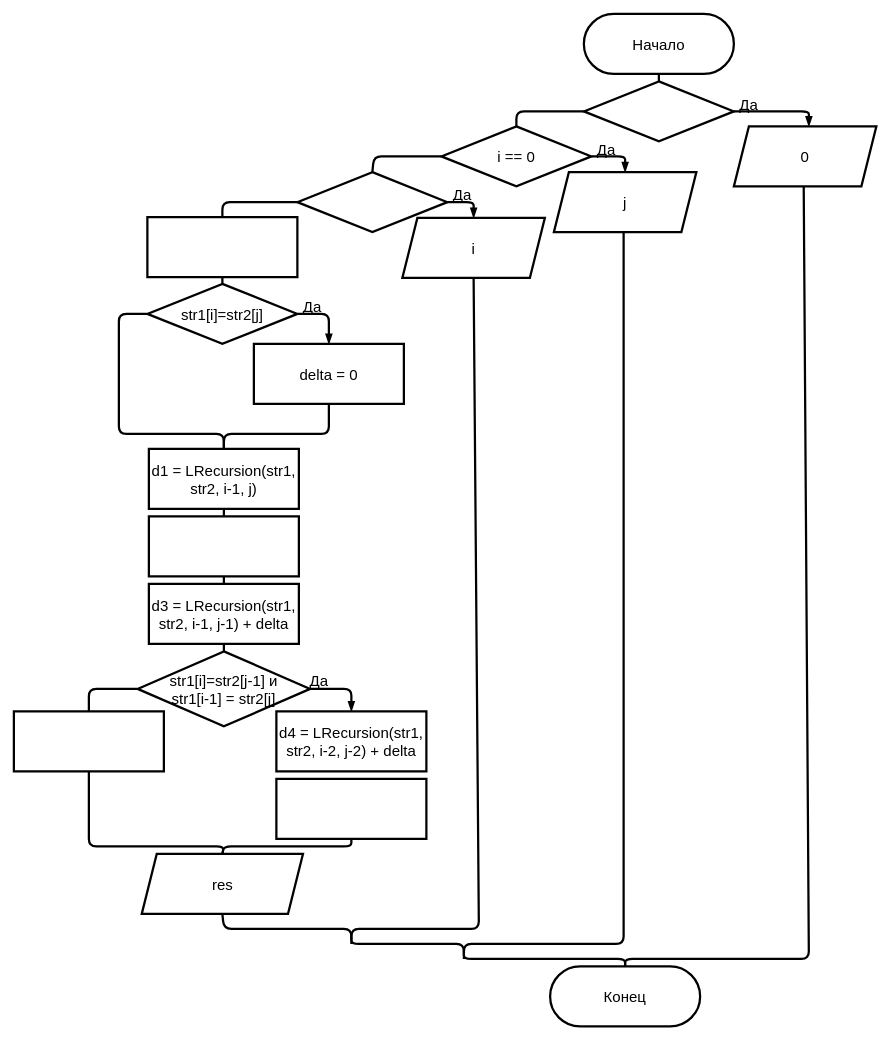
Image size: 890x1040. Some labels were removed from this diagram. Here are the shapes that lost their labels. From the top down, the box of each, then its label:
(582, 80, 735, 142): i == 0 и j == 0
(296, 171, 448, 233): j == 0
(146, 216, 298, 278): delta = 1
(147, 515, 300, 577): d2 = LRecursion(str1, str2, i, j-1)
(12, 710, 165, 772): res = min(d1,d2,d3)
(275, 777, 427, 840): res = min(d1,d2,d3, d4)
